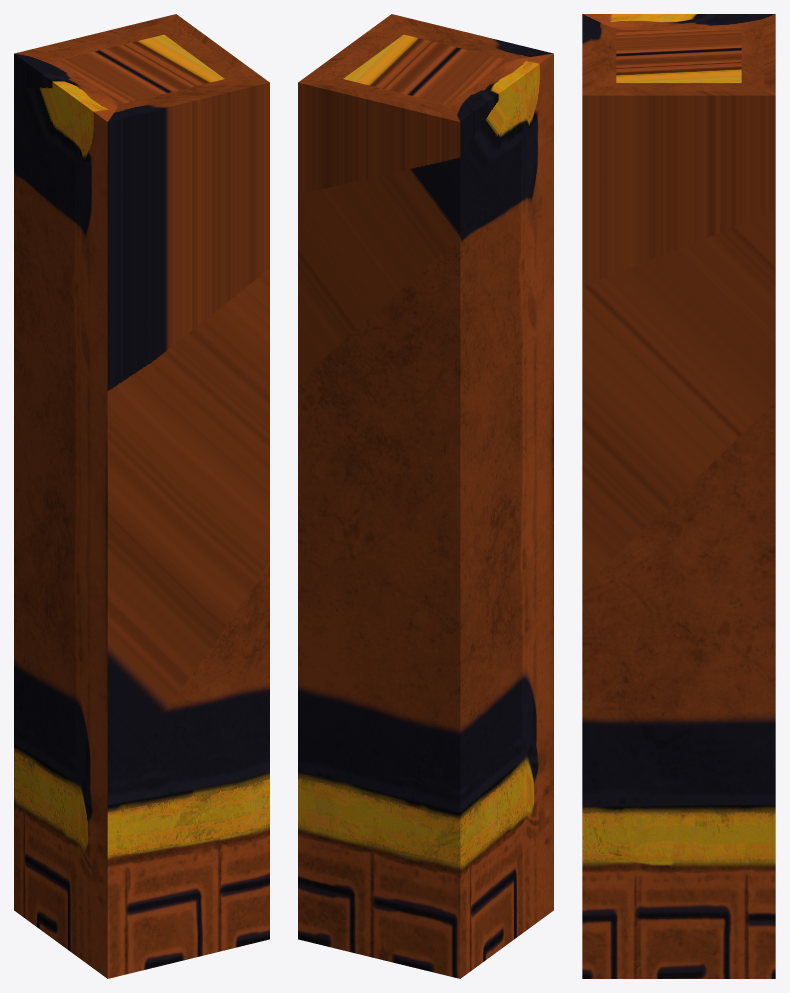
The model's file is Corner.fbx.
3 renders of one model, left to right at view 1: azimuth 30°, elevation 25°; view 2: azimuth 150°, elevation 25°; view 3: azimuth 270°, elevation 25°, orthographic. The views are drawn at different scales.
Parts seen in each view (by area): view 1: CornerUp Low.004; view 2: CornerUp Low.004; view 3: CornerUp Low.004.
Boxes of the visible parts, x1=… form: CornerUp Low.004: x1=14, y1=14, x2=269, y2=978; CornerUp Low.004: x1=298, y1=14, x2=553, y2=978; CornerUp Low.004: x1=582, y1=14, x2=775, y2=978.
Bounding box in the file's own units: 44.44 × 224 × 44.44.
